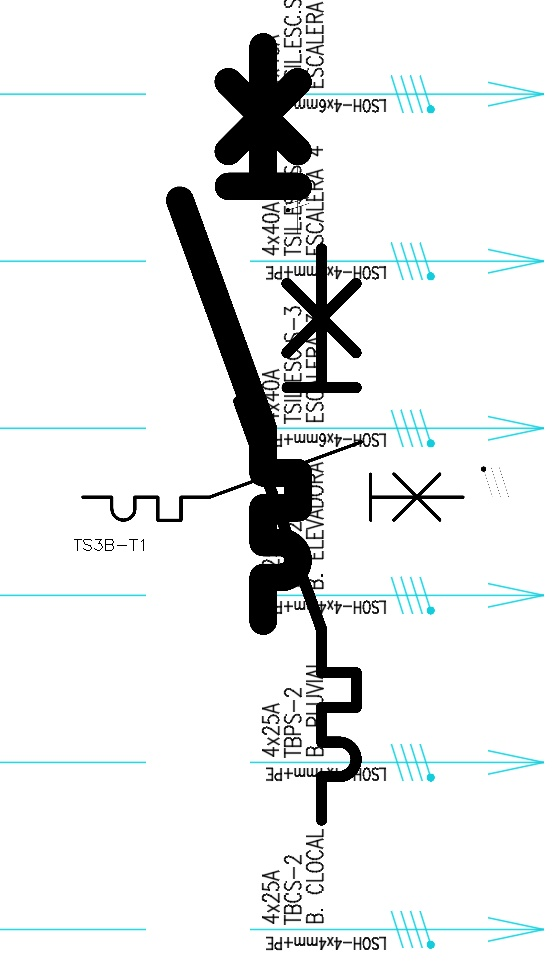interruptor_termomagnetico: (165, 32, 313, 636), (224, 234, 371, 835), (73, 432, 473, 530)
